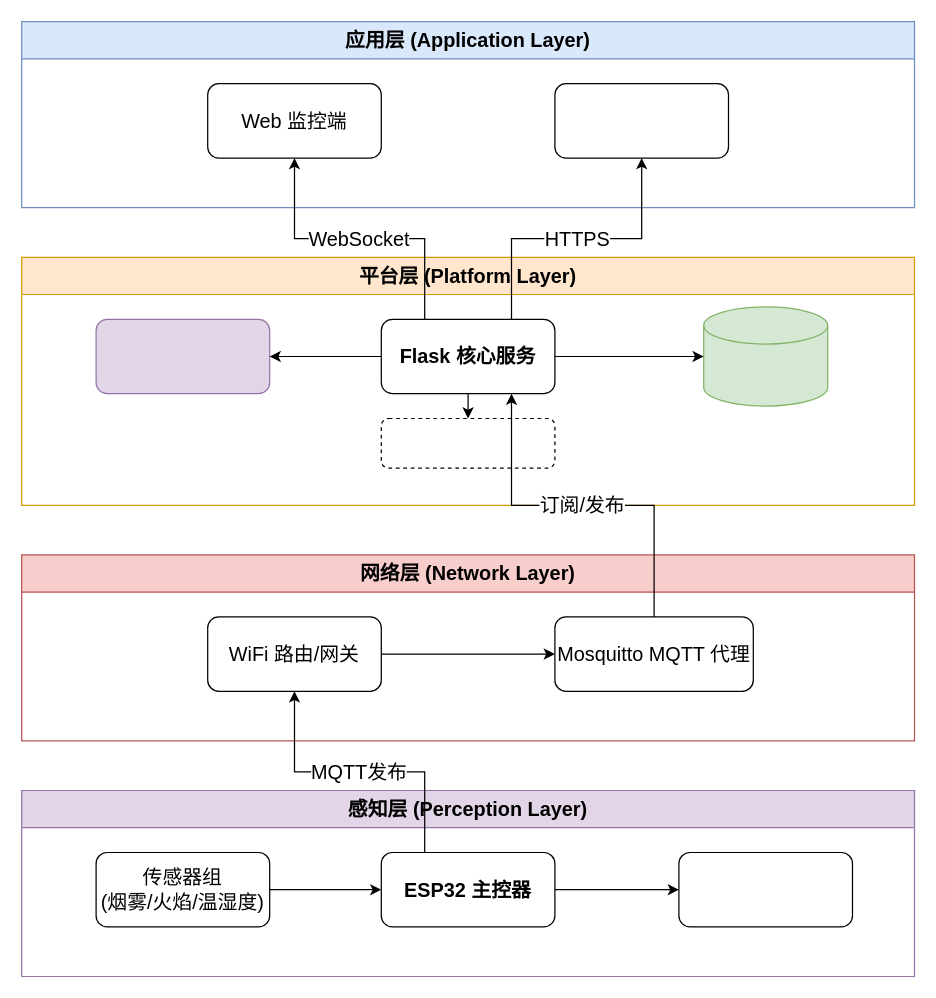
Image size: 936x998. Some labels were removed from this diagram. The centre of each missing label's shape, as x and y in pixels:
CNN+LSTM AI模型: the point at 182,356
SQLite 数据库: the point at 765,356
WebSocket 推送服务: the point at 467,442
微信小程序: the point at 641,120
执行器 (舵机/蜂鸣器): the point at 765,889
